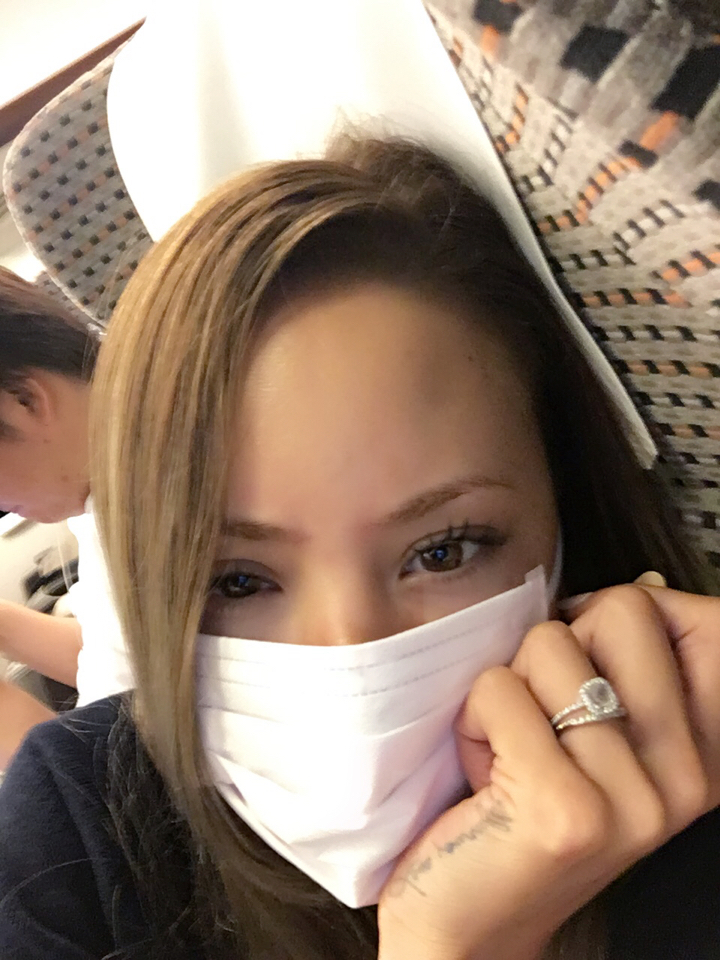mask: (189, 564, 554, 891)
